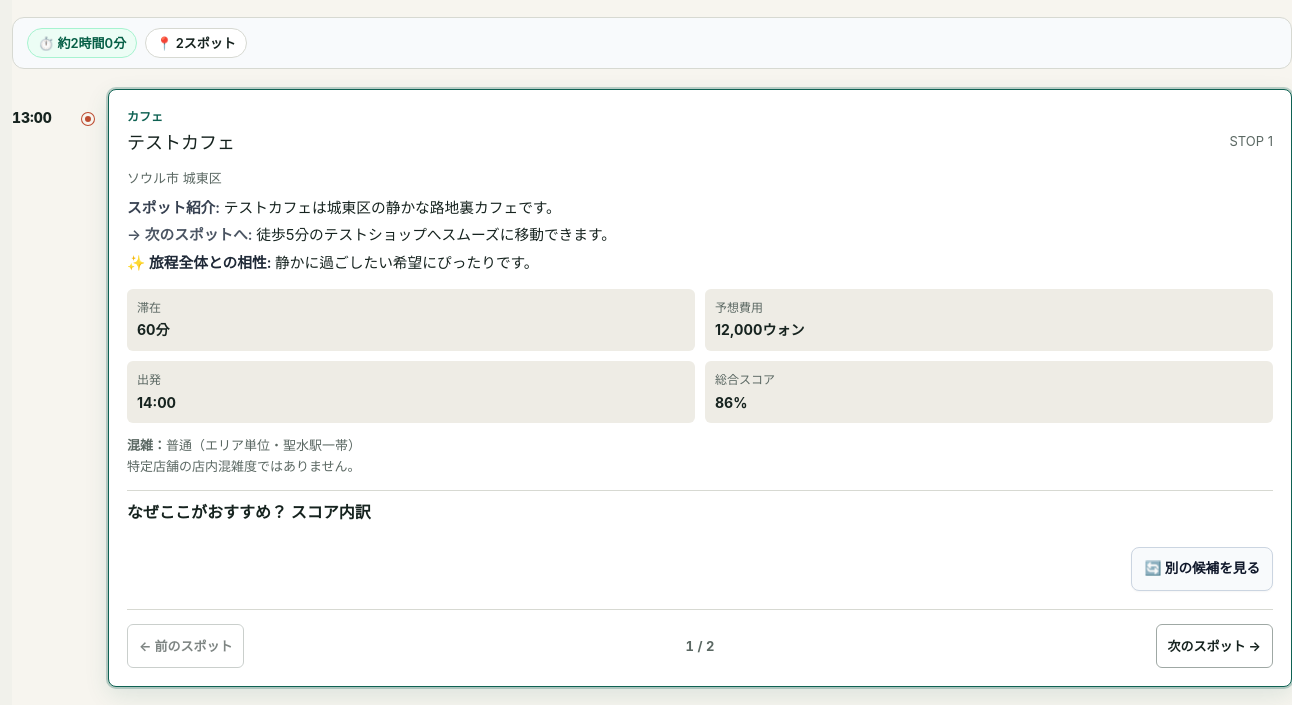
Test: trip detail editing › renders contextual tripSummary and the selected stop explanation
The image size is (1292, 705).
(page scrolled)
expect the text "テストカフェは城東区の静かな路地裏カフェです。" is shown: met, box [224,199,561,217]
expect the text "徒歩5分のテストショップへスムーズに移動できます。" is shown: met, box [256,226,616,244]
Click the button "次のスポット →". click: (1214,646)
box: [1156,624,1273,668]
(page scrolled)
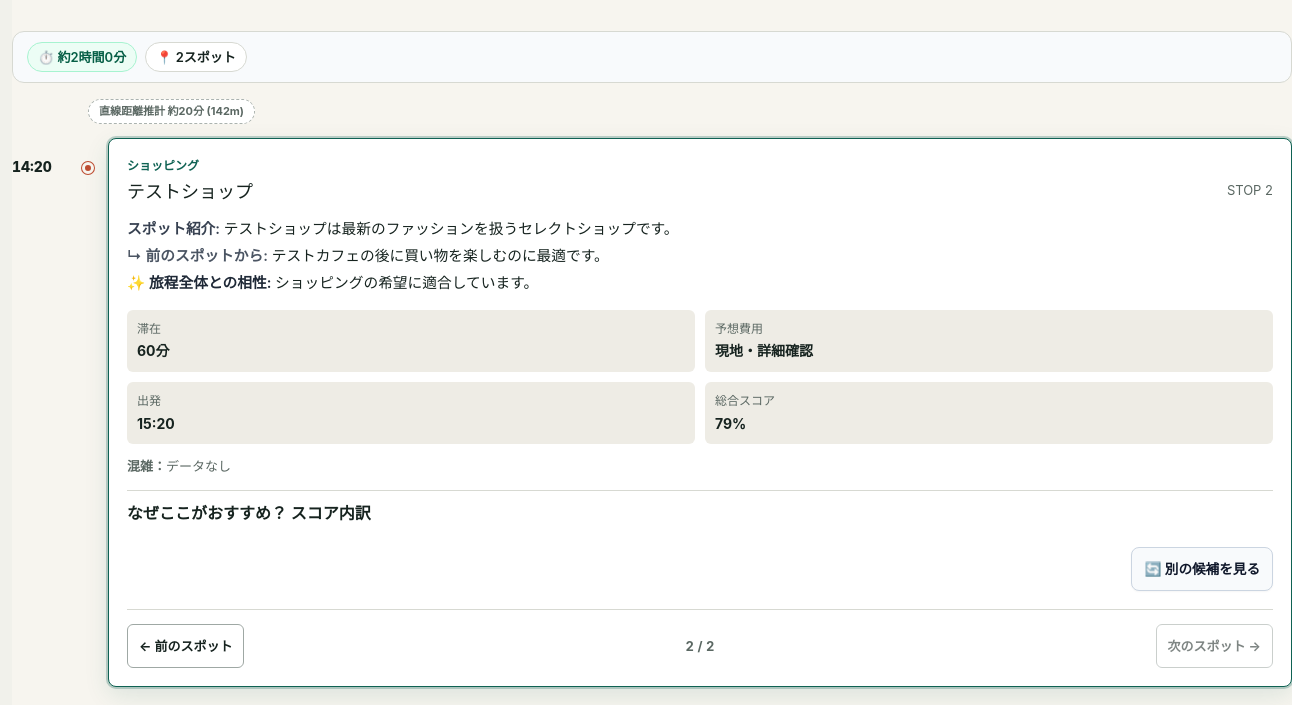
expect the text "テストショップは最新のファッションを扱うセレクトショップです。" is shown: met, box [224,220,679,238]
expect the text "テストカフェの後に買い物を楽しむのに最適です。" is shown: met, box [272,247,609,265]
expect the text "ショッピングの希望に適合しています。" is shown: met, box [275,274,538,292]
